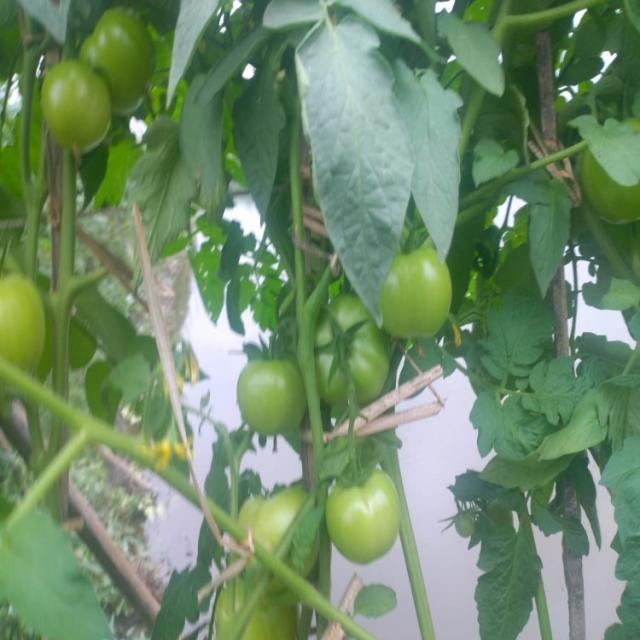tomato: (211, 338, 323, 467), (303, 292, 406, 419), (368, 244, 474, 349), (315, 456, 410, 570), (83, 10, 183, 118), (35, 53, 133, 152), (228, 470, 304, 546), (1, 267, 50, 380)
